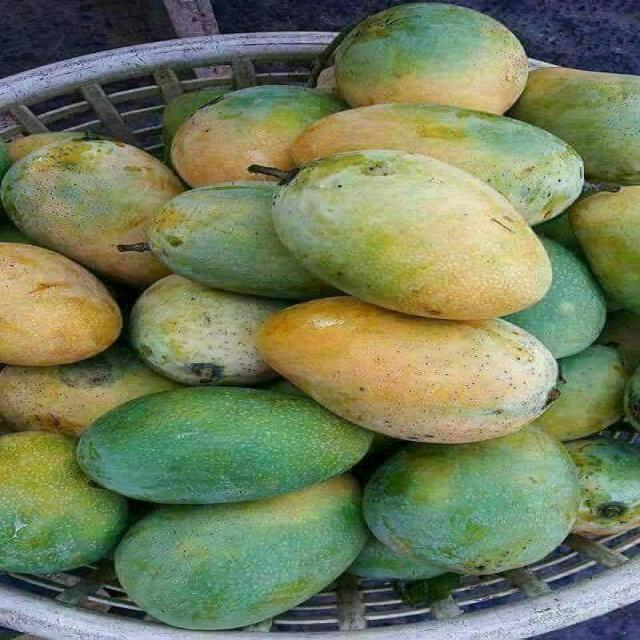mango: (274, 150, 551, 319), (259, 297, 557, 442), (116, 476, 366, 629), (292, 104, 582, 225), (78, 388, 371, 503), (364, 427, 579, 574), (2, 140, 182, 286), (150, 182, 334, 300), (335, 3, 527, 113), (0, 432, 127, 573), (171, 85, 346, 187), (130, 275, 287, 385), (0, 345, 178, 436), (0, 243, 122, 366), (511, 68, 639, 184), (506, 237, 606, 359), (535, 345, 627, 441), (570, 186, 639, 312), (567, 438, 639, 534), (163, 88, 227, 161), (348, 536, 443, 580), (8, 132, 90, 163), (598, 310, 639, 371), (535, 214, 583, 258), (359, 432, 402, 473), (0, 211, 37, 245), (624, 369, 639, 430), (262, 379, 308, 397), (316, 67, 339, 97), (0, 140, 10, 178)
